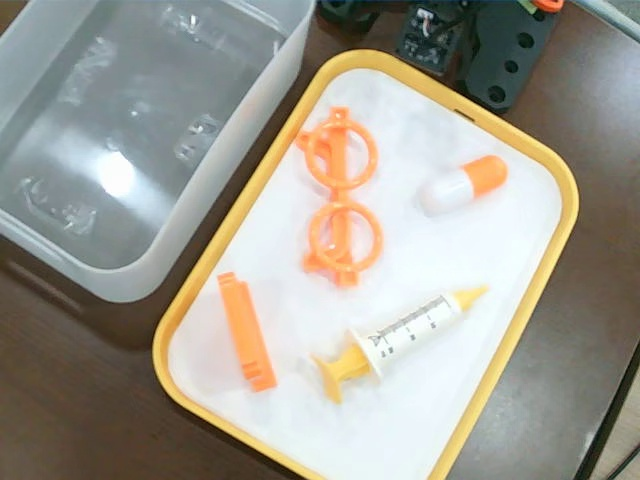pill: (418, 154, 509, 215)
syringe: (309, 283, 494, 405)
